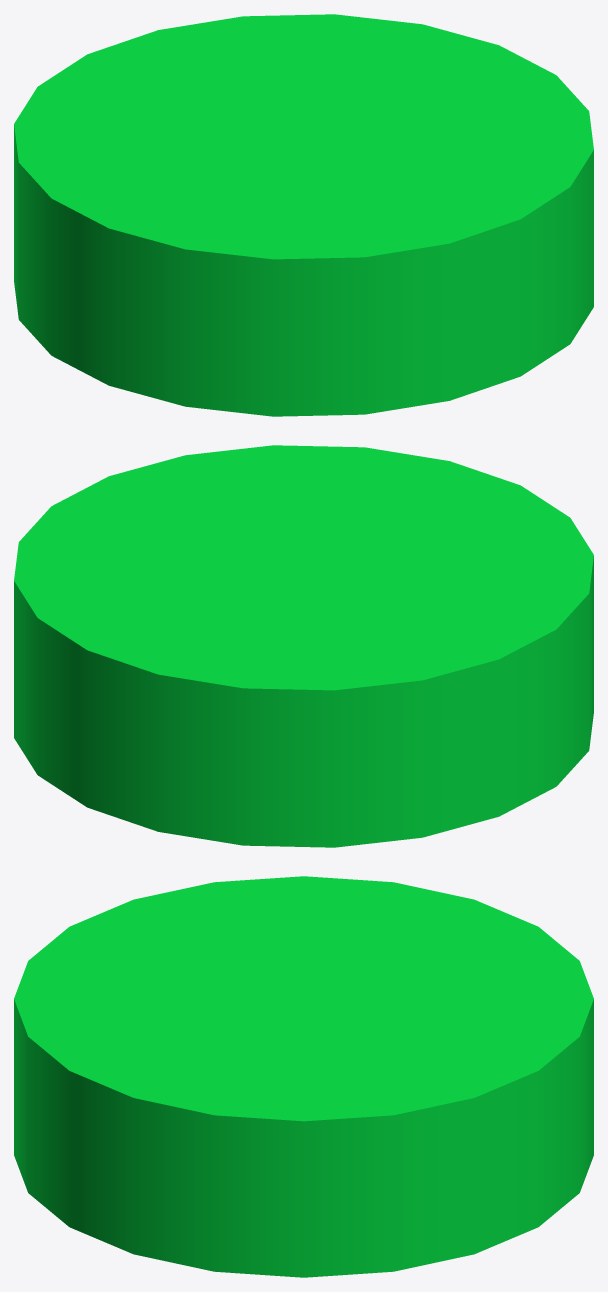
File: Green Coin U.fbx
3 views of the same model, one above another, from view 1: azimuth 30°, elevation 25°; view 2: azimuth 150°, elevation 25°; view 3: azimuth 270°, elevation 25° (orthographic).
Parts seen in each view (by area): view 1: pCylinder1; view 2: pCylinder1; view 3: pCylinder1.
Part boxes in pixels (x1=…): pCylinder1: x1=14, y1=14, x2=593, y2=416; pCylinder1: x1=14, y1=445, x2=593, y2=847; pCylinder1: x1=14, y1=876, x2=593, y2=1277.
Size of the model in its own units: 2 by 0.5952 by 2.
